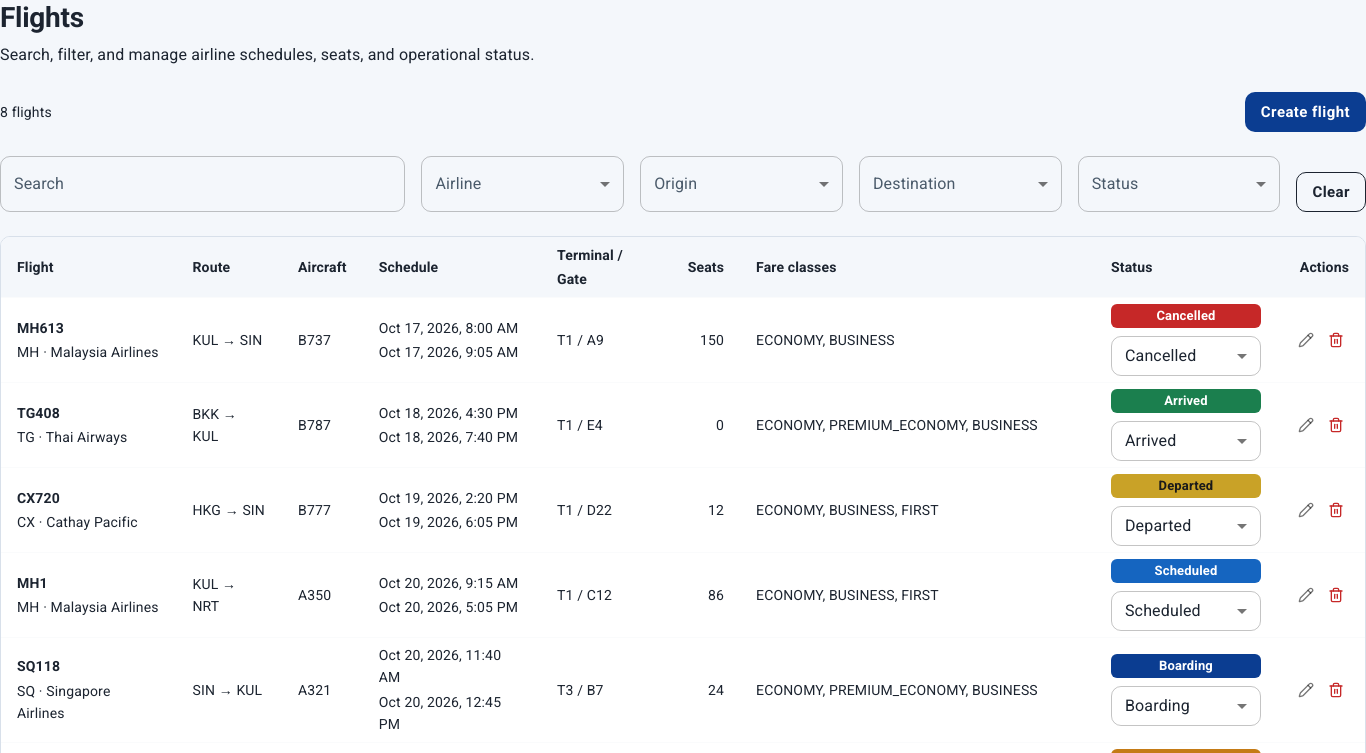
Test case: AdminFlightsPage › lists flights and filters by search
Check: the heading "Flights" is shown, box [0,1,84,34]
Check: the text "MH1" is shown, box [17,575,48,591]
Type "SQ118" into the field labelled "Search". click: x=203, y=184
box: [0,156,406,212]
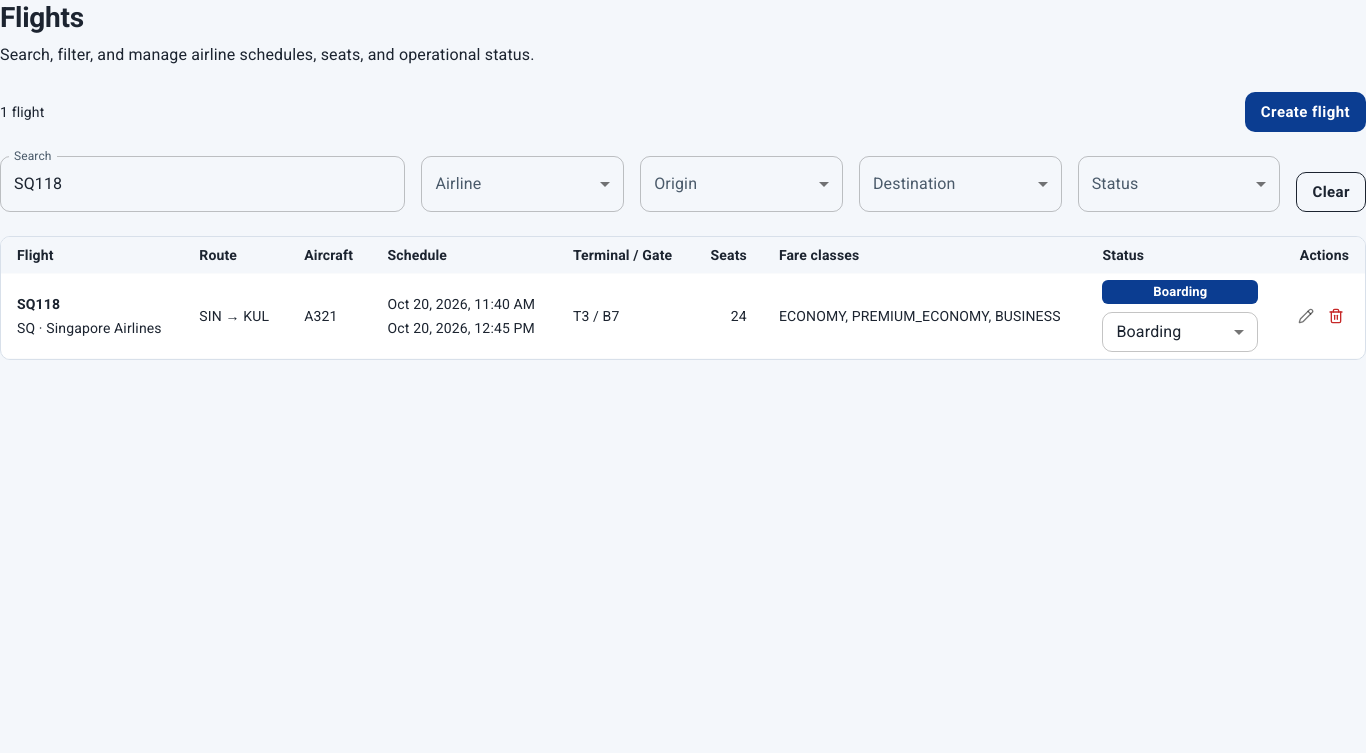
Check: the text "SQ118" is shown, box [17,296,60,312]
Check: the text "MH1" is gone
